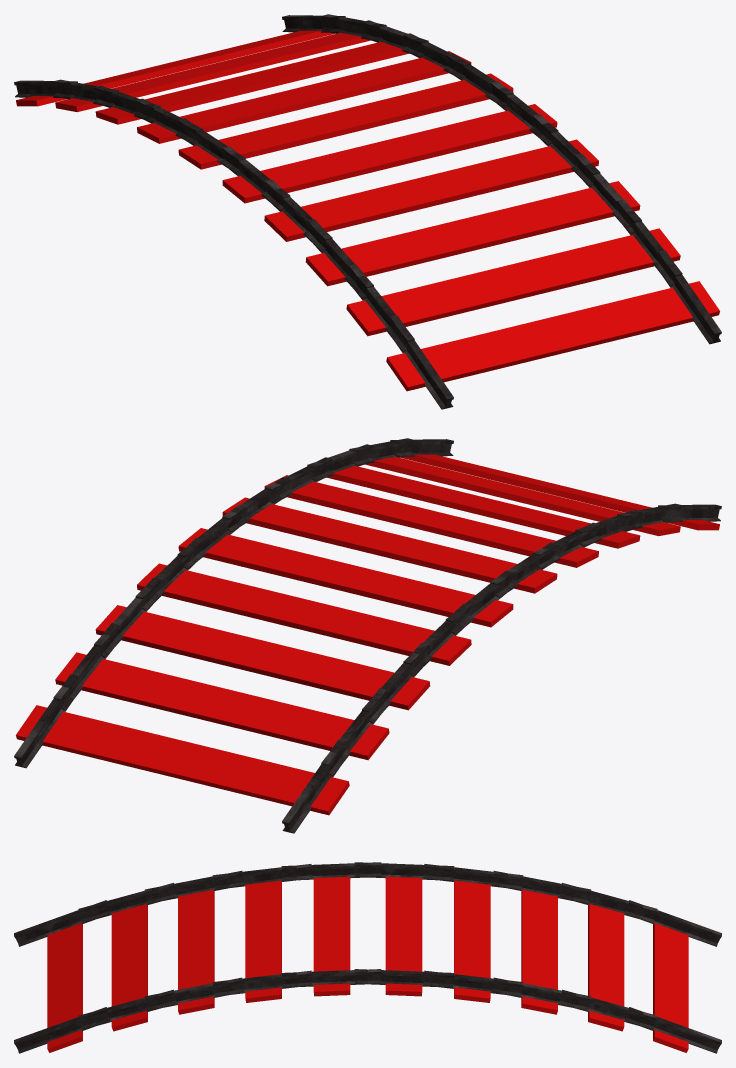
File: benddown_railway_tracks.fbx
3 renders of one model, top to bottom at view 1: azimuth 30°, elevation 25°; view 2: azimuth 150°, elevation 25°; view 3: azimuth 270°, elevation 25°, orthographic. The views are drawn at different scales.
Parts seen in each view (by area): view 1: rails.002; view 2: rails.002; view 3: rails.002.
Boxes of the visible parts, bbox=[...] form: rails.002: bbox=[14, 14, 721, 409]; rails.002: bbox=[14, 438, 721, 833]; rails.002: bbox=[14, 862, 721, 1053].
Bounding box in the file's own units: 312 × 94.69 × 749.
